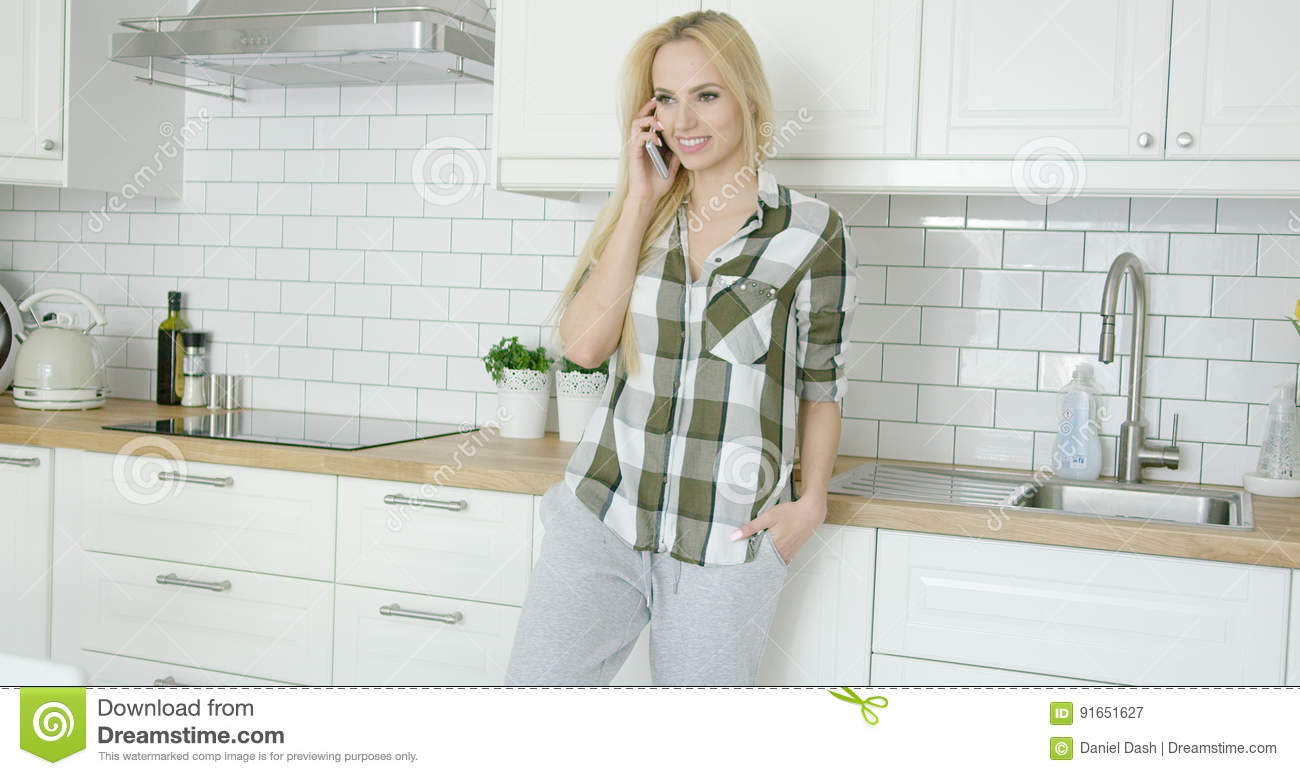phone: (646, 109, 677, 184)
talk: (626, 80, 725, 216)
